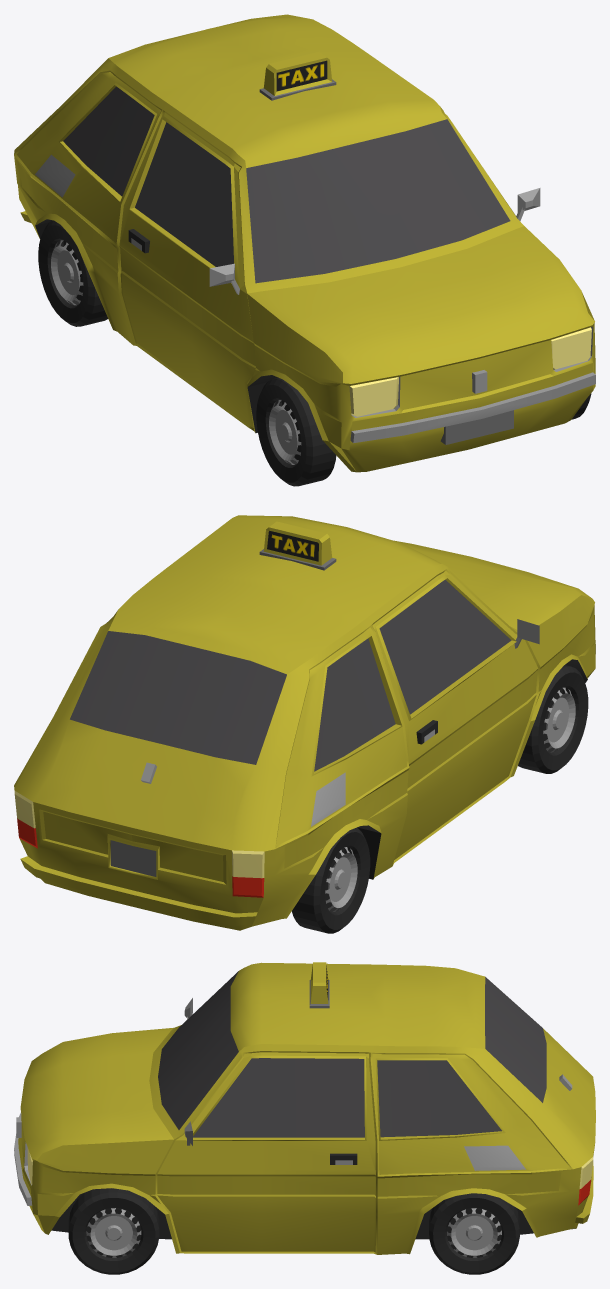
The model's file is fiat_126p.fbx.
The picture shows the model from 3 angles, top to bottom: view 1: azimuth 30°, elevation 25°; view 2: azimuth 150°, elevation 25°; view 3: azimuth 270°, elevation 25°; orthographic projection. The views are drawn at different scales.
Visible parts, largest first — view 1: Fiat 126p, 31.wheel_fr.003, 31.wheel_fr.006, SchoolBus.003; view 2: Fiat 126p, 31.wheel_fr.006, 31.wheel_fr.003, SchoolBus.003; view 3: Fiat 126p, 31.wheel_fr.005, 31.wheel_fr.007, SchoolBus.003.
Part boxes in pixels (x1,y1,x2,y2): Fiat 126p: [14, 14, 595, 472]; 31.wheel_fr.003: [256, 377, 336, 486]; 31.wheel_fr.006: [38, 220, 107, 326]; SchoolBus.003: [259, 52, 336, 100]; Fiat 126p: [14, 515, 595, 930]; 31.wheel_fr.006: [292, 827, 370, 933]; 31.wheel_fr.003: [518, 665, 588, 773]; SchoolBus.003: [259, 521, 336, 570]; Fiat 126p: [14, 962, 595, 1254]; 31.wheel_fr.005: [68, 1188, 159, 1274]; 31.wheel_fr.007: [429, 1193, 519, 1274]; SchoolBus.003: [309, 962, 329, 1008].
Bounding box in the file's own units: 163 × 140 × 300.
